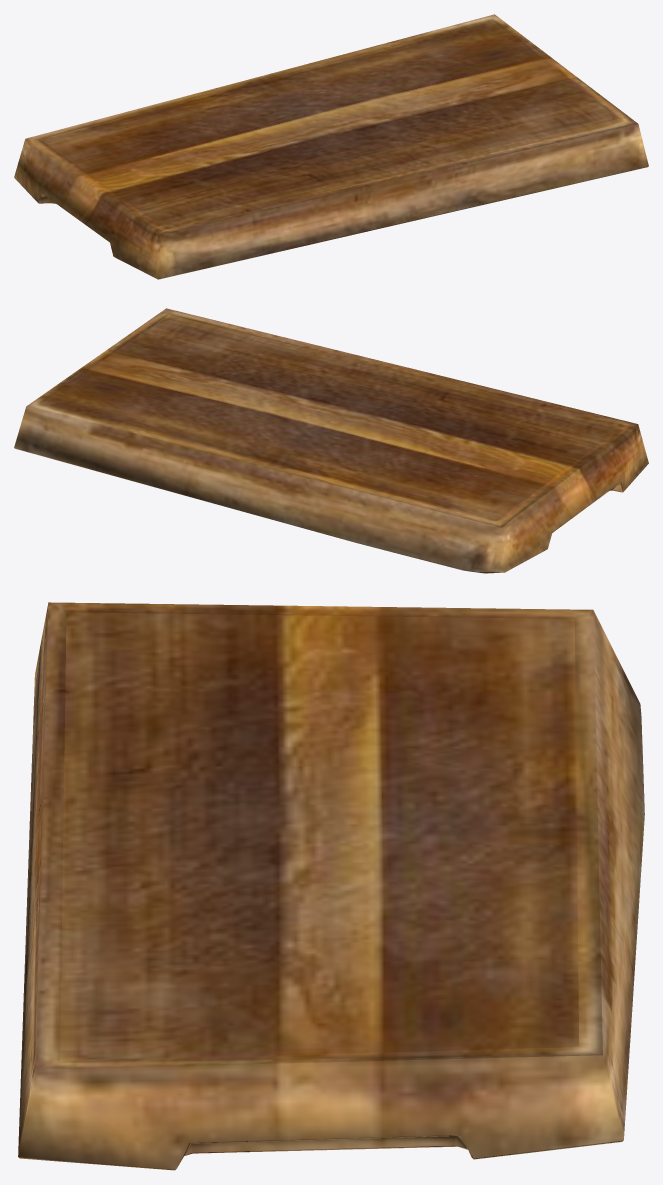
Rendered from wooden_cutting_board.glb.
The picture shows the model from 3 angles, top to bottom: view 1: azimuth 30°, elevation 25°; view 2: azimuth 150°, elevation 25°; view 3: azimuth 270°, elevation 25°; orthographic projection. The views are drawn at different scales.
Parts seen in each view (by area): view 1: wooden_cutting_board; view 2: wooden_cutting_board; view 3: wooden_cutting_board.
Boxes of the visible parts, bbox=[...] form: wooden_cutting_board: bbox=[14, 14, 648, 279]; wooden_cutting_board: bbox=[14, 308, 648, 573]; wooden_cutting_board: bbox=[18, 602, 644, 1170].
Size of the model in its own units: 0.4492 by 0.0404 by 0.2372.
Materials: 1 (1 with a texture image).
